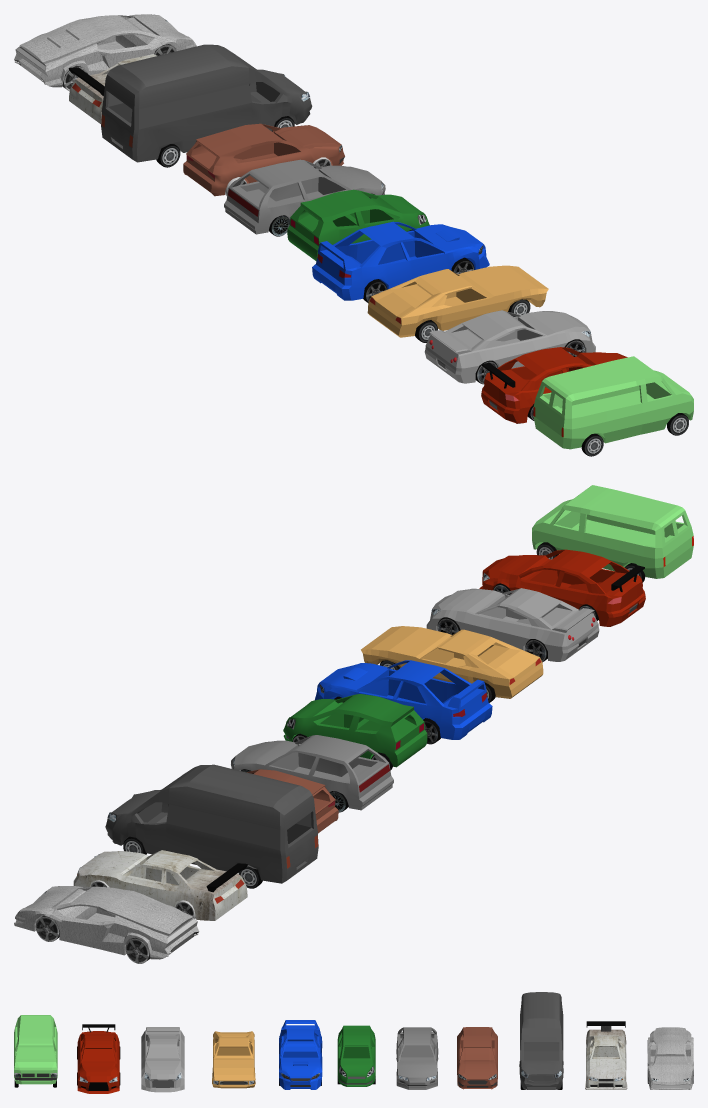
Rendered from allcars.fbx.
The picture shows the model from 3 angles, top to bottom: view 1: azimuth 30°, elevation 25°; view 2: azimuth 150°, elevation 25°; view 3: azimuth 270°, elevation 25°; orthographic projection. The views are drawn at different scales.
Parts seen in each view (by area): view 1: VAN, minivan, suburu, Mustang, Lambo, gtr07, ST, CIVIC, nameless_hatchback, evo, Nissan; view 2: VAN, minivan, Lambo, gtr07, evo, suburu, Nissan, Mustang, CIVIC, nameless_hatchback, ST; view 3: VAN, minivan, suburu, gtr07, Lambo, evo, Nissan, CIVIC, ST, Mustang, nameless_hatchback.
Part boxes in pixels (<box>): VAN: <box>101,44,312,162</box>; minivan: <box>533,356,693,449</box>; suburu: <box>312,221,489,300</box>; Mustang: <box>367,265,548,337</box>; Lambo: <box>14,14,196,87</box>; gtr07: <box>424,310,595,383</box>; ST: <box>183,123,344,196</box>; CIVIC: <box>224,159,385,234</box>; nameless_hatchback: <box>287,189,429,261</box>; evo: <box>481,347,627,423</box>; Nissan: <box>68,54,157,123</box>; VAN: <box>105,764,318,883</box>; minivan: <box>532,485,693,578</box>; Lambo: <box>14,886,199,959</box>; gtr07: <box>426,588,599,661</box>; evo: <box>479,549,645,626</box>; suburu: <box>315,660,492,739</box>; Nissan: <box>73,850,247,920</box>; Mustang: <box>361,626,543,698</box>; CIVIC: <box>231,735,393,810</box>; nameless_hatchback: <box>283,694,427,767</box>; ST: <box>247,769,338,833</box>; VAN: <box>519,992,563,1089</box>; minivan: <box>14,1015,57,1084</box>; suburu: <box>279,1020,322,1089</box>; gtr07: <box>141,1027,184,1092</box>; Lambo: <box>647,1027,693,1089</box>; evo: <box>77,1024,119,1093</box>; Nissan: <box>585,1021,627,1089</box>; CIVIC: <box>396,1027,438,1089</box>; ST: <box>457,1027,497,1089</box>; Mustang: <box>212,1031,255,1088</box>; nameless_hatchback: <box>337,1025,375,1086</box>.
Bounding box in the file's own units: 396 × 183 × 2035.
